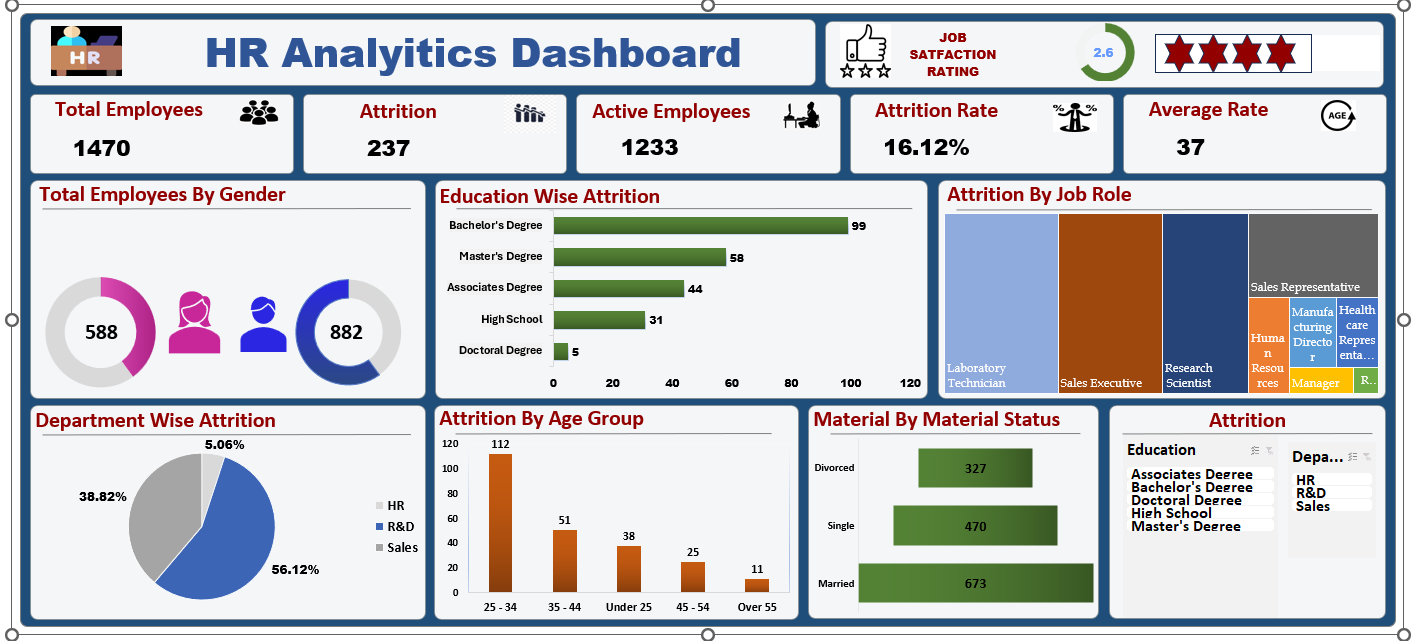

The dashboard page shown, as its layout file describes it:
{"tool":"tableau","page":{"name":"Hr Analystics Dashboard","canvas":[1580,900],"ordinal":0},"visuals":[{"type":"image","param":"Image/HR  Back ground pic.png","box":[8,8,1564,884]},{"type":"text","box":[19,19,528,67]},{"type":"filter","title":"KPIS","param":"[federated.1lhodwh10oa0u21g2pmtj1s3khl0].[none:Education:nk]","box":[947,22,230,55]},{"type":"worksheet","title":"KPIS","mark":"Automatic","box":[18,97,1326,138]},{"type":"worksheet","title":"Attrition By Gender  ","mark":"Automatic","rows":["Gender"],"cols":["Calculation_214483979894054912","Calculation_214483979894054912"],"box":[1357,98,210,134]},{"type":"worksheet","title":"Department Wise Attration","mark":"Pie","box":[18,244,453,366]},{"type":"worksheet","title":"No Employee Age Group","mark":"Automatic","rows":["Employee Count"],"cols":["Age (bin)"],"box":[484,245,544,364]},{"type":"parameter","param":"[Parameters].[Parameter 1]","box":[828,245,198,51]},{"type":"worksheet","title":"Job Satfaction Rating","mark":"Square","rows":["Job Role"],"cols":["Job Satisfaction"],"box":[1040,245,524,364]},{"type":"legend","title":"Department Wise Attration","param":"[federated.1lhodwh10oa0u21g2pmtj1s3khl0].[none:Department:nk]","box":[20,519,88,89]},{"type":"worksheet","title":"Attrition Rate By Gender  For Diffrent Age Group ","mark":"Pie","rows":["Calculation_214483979949125636","Calculation_214483979949125636"],"cols":["CF_age band"],"box":[460,619,1103,262]},{"type":"worksheet","title":"Education Field  Wise Attrition","mark":"Automatic","rows":["Education Field"],"cols":["Calculation_214483979894054912"],"box":[17,620,433,181]},{"type":"legend","title":"Attrition Rate By Gender  For Diffrent Age Group ","param":"[federated.1lhodwh10oa0u21g2pmtj1s3khl0].[none:Gender:nk]","box":[1256,622,307,39]}]}

Visuals, with their boxes on the page's 1580x900 design canvas (x1, y1, x2, y2). These are canvas units, not pixel positions in the 1413x641 screenshot, which may show the page scaled, cropped or inside an application window:
image: {"left": 8, "top": 8, "right": 1572, "bottom": 892}
text: {"left": 19, "top": 19, "right": 547, "bottom": 86}
"KPIS" filter: {"left": 947, "top": 22, "right": 1177, "bottom": 77}
"KPIS" worksheet: {"left": 18, "top": 97, "right": 1344, "bottom": 235}
"Attrition By Gender  " worksheet: {"left": 1357, "top": 98, "right": 1567, "bottom": 232}
"Department Wise Attration" worksheet (Pie marks): {"left": 18, "top": 244, "right": 471, "bottom": 610}
"No Employee Age Group" worksheet: {"left": 484, "top": 245, "right": 1028, "bottom": 609}
parameter: {"left": 828, "top": 245, "right": 1026, "bottom": 296}
"Job Satfaction Rating" worksheet (Square marks): {"left": 1040, "top": 245, "right": 1564, "bottom": 609}
"Department Wise Attration" legend: {"left": 20, "top": 519, "right": 108, "bottom": 608}
"Attrition Rate By Gender  For Diffrent Age Group " worksheet (Pie marks): {"left": 460, "top": 619, "right": 1563, "bottom": 881}
"Education Field  Wise Attrition" worksheet: {"left": 17, "top": 620, "right": 450, "bottom": 801}
"Attrition Rate By Gender  For Diffrent Age Group " legend: {"left": 1256, "top": 622, "right": 1563, "bottom": 661}
